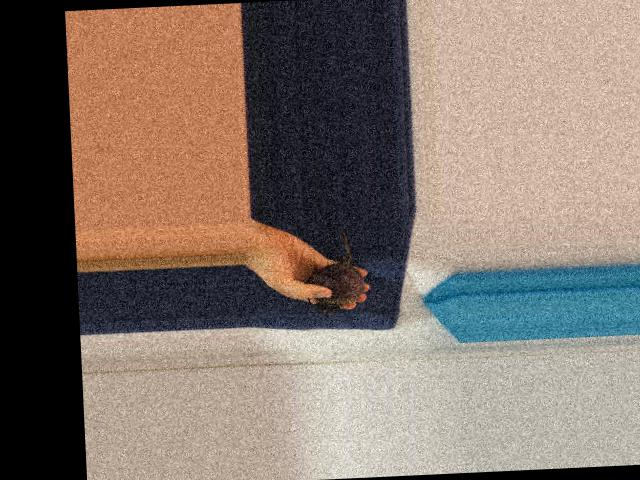beet: (304, 229, 366, 313)
